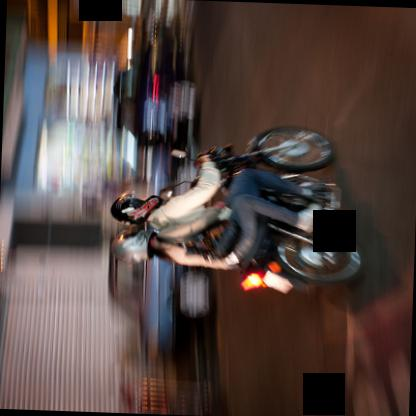handbag: (162, 218, 238, 259)
